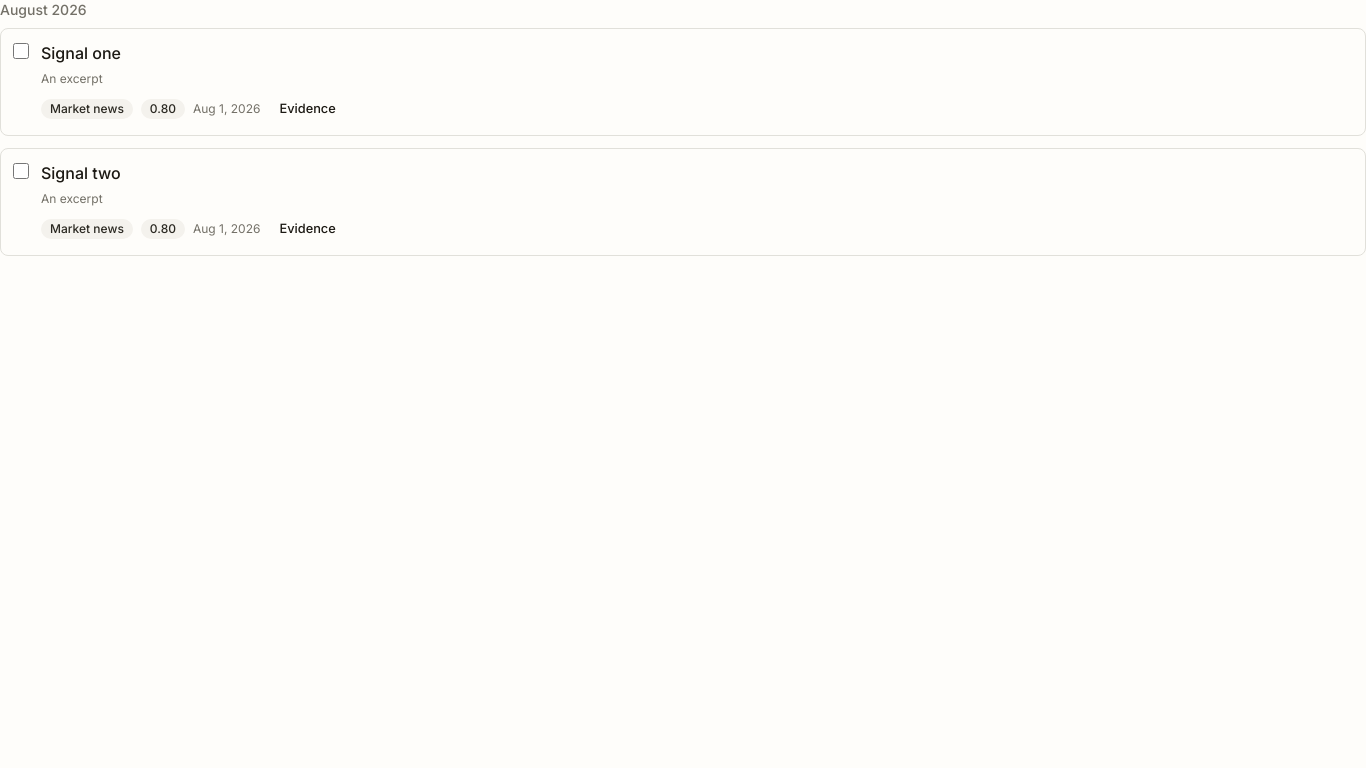
Test: SignalsList — bulk delete › deletes the selected ids, clears the selection, and refreshes on success
Click the checkbox named "Select Signal one": click(21, 51) top-left (13, 43), bottom-right (29, 59)
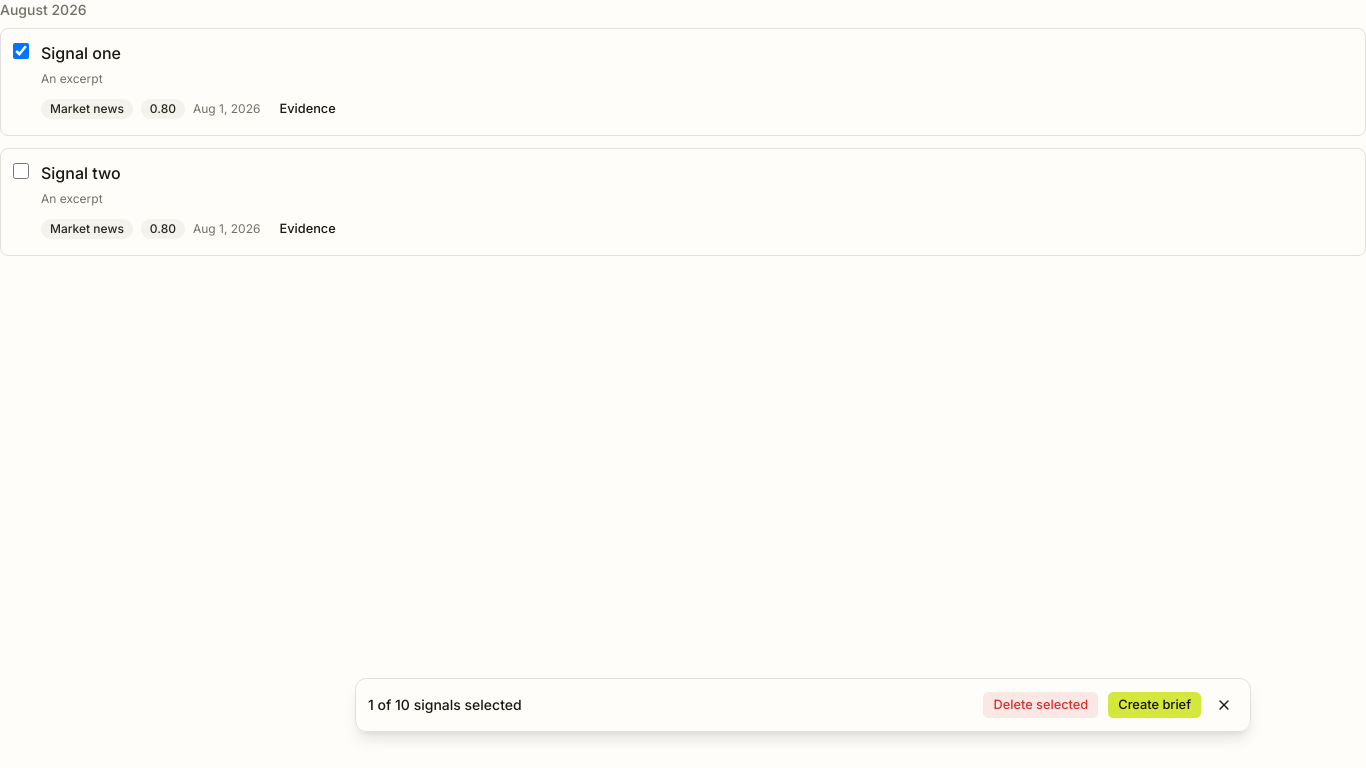
Click the checkbox named "Select Signal two": click(21, 171) top-left (13, 163), bottom-right (29, 179)
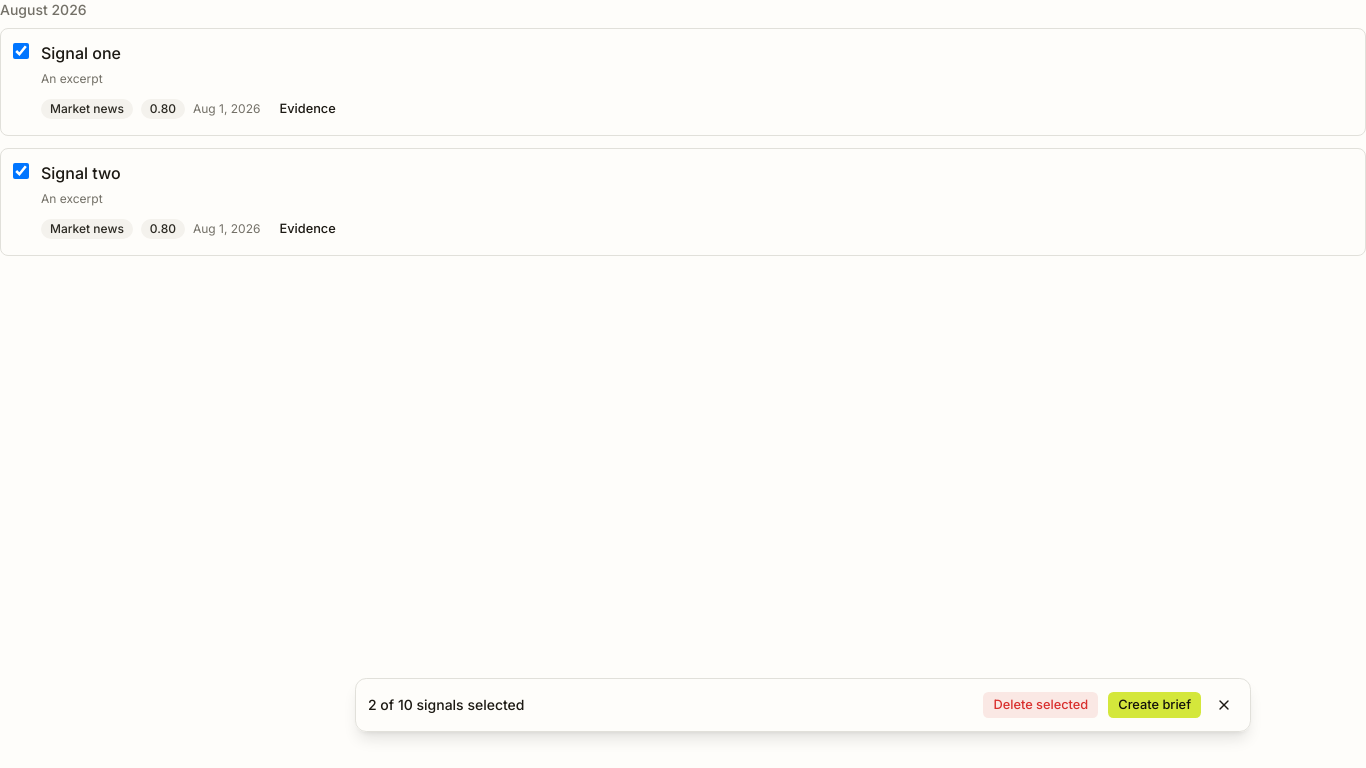
Click the button "Delete selected": click(1041, 705) top-left (982, 691), bottom-right (1099, 719)
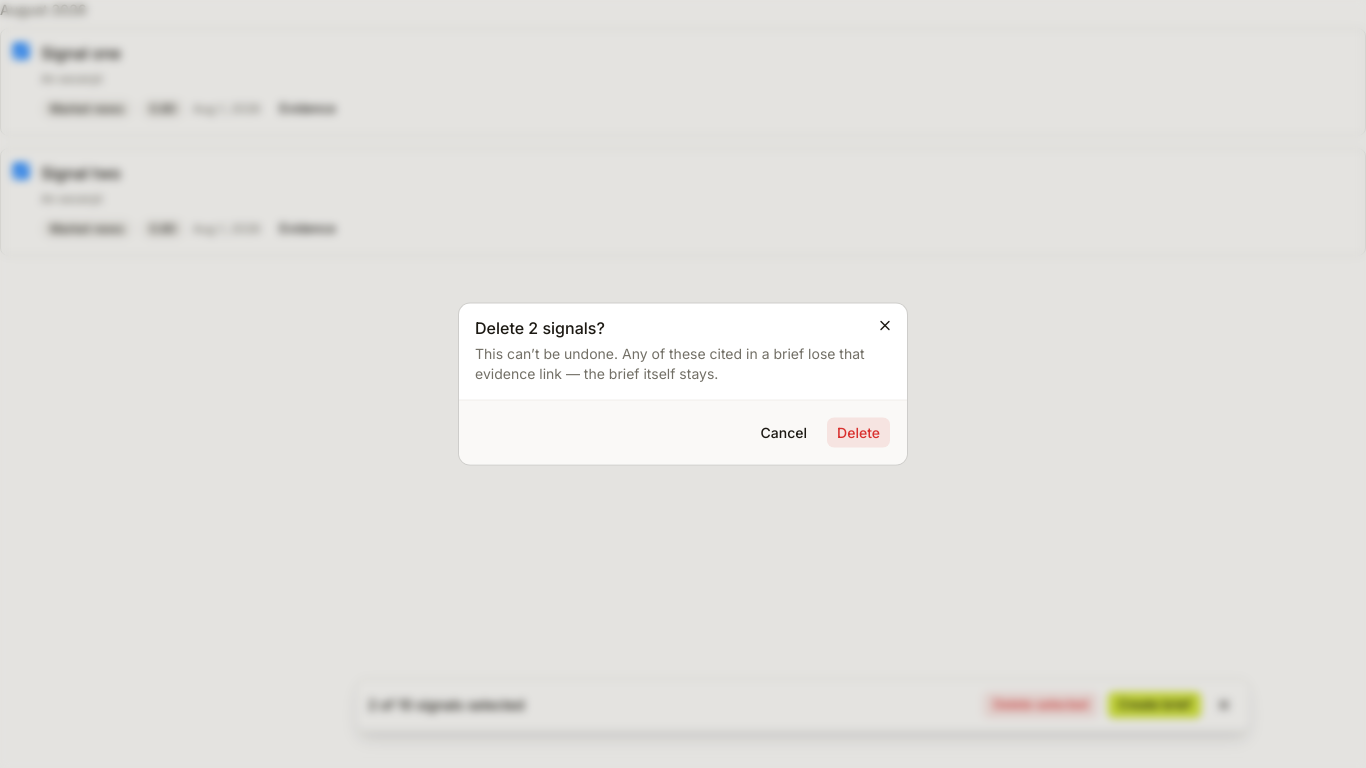
Click the button "Delete": click(859, 432) top-left (826, 416), bottom-right (891, 448)
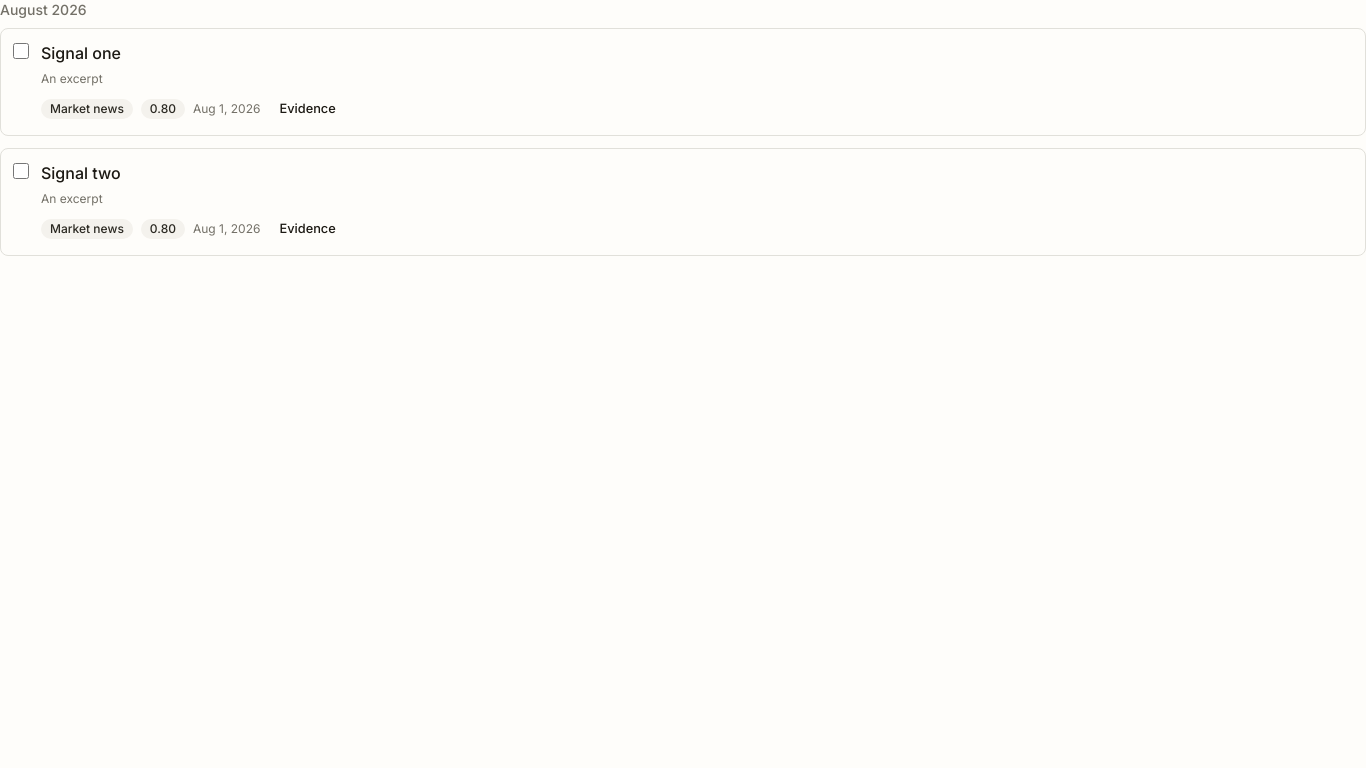
Expected: the checkbox named "Select Signal one" is not checked, top-left (13, 43), bottom-right (29, 59)
Expected: the text "2 of 10 signals selected" is gone
